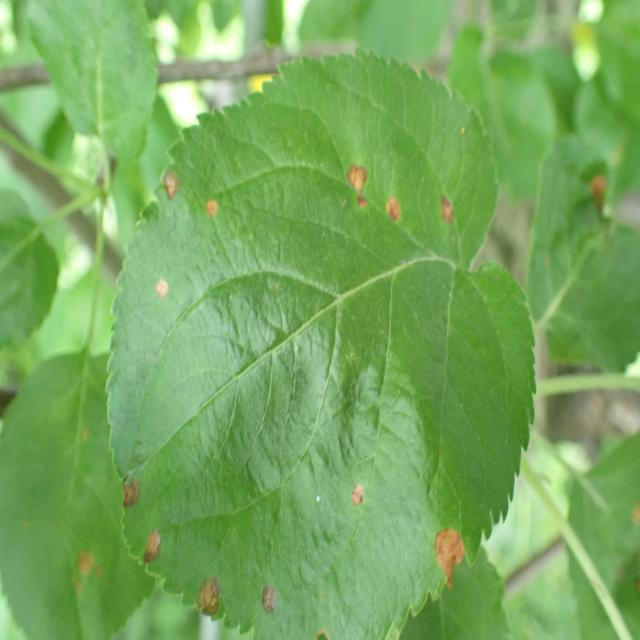Black Rot: (424, 506, 474, 602), (345, 130, 379, 243), (131, 520, 177, 592), (184, 566, 232, 626), (149, 146, 188, 213), (151, 266, 181, 344), (432, 168, 459, 247), (112, 469, 154, 518), (343, 448, 369, 526), (245, 572, 279, 628), (379, 186, 403, 243), (201, 185, 229, 232)
